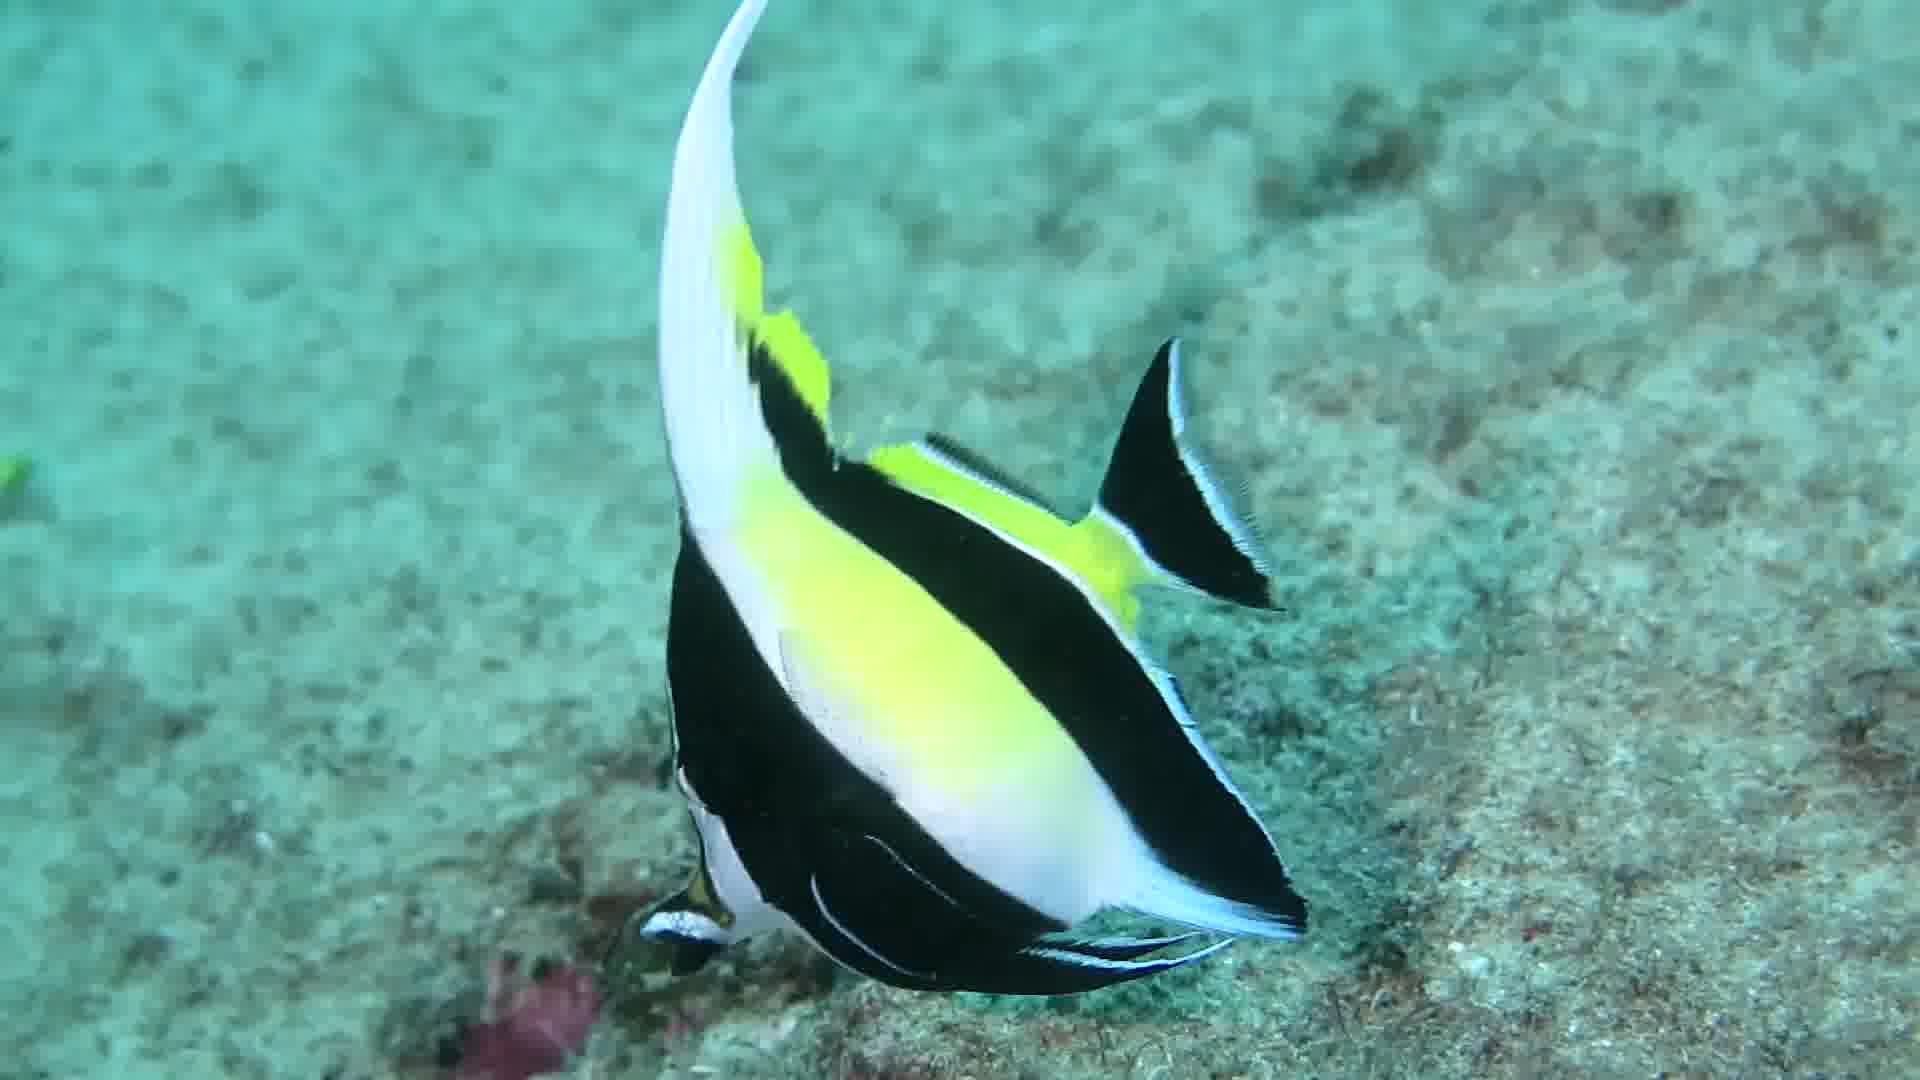Zanclus cornutus: (638, 293, 1300, 997)
